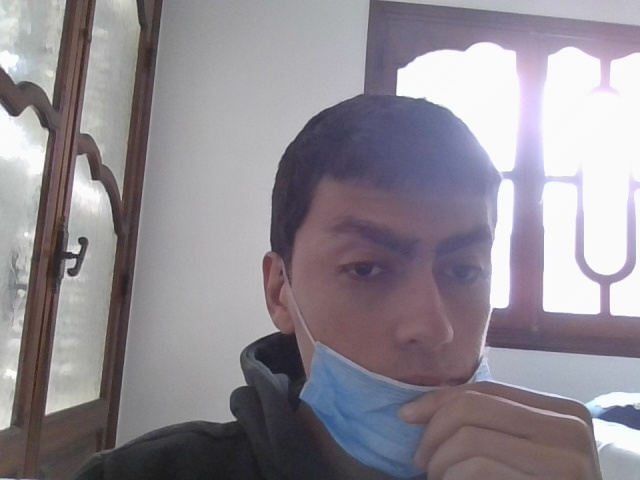mask_weared_incorrect: (284, 90, 522, 480)
